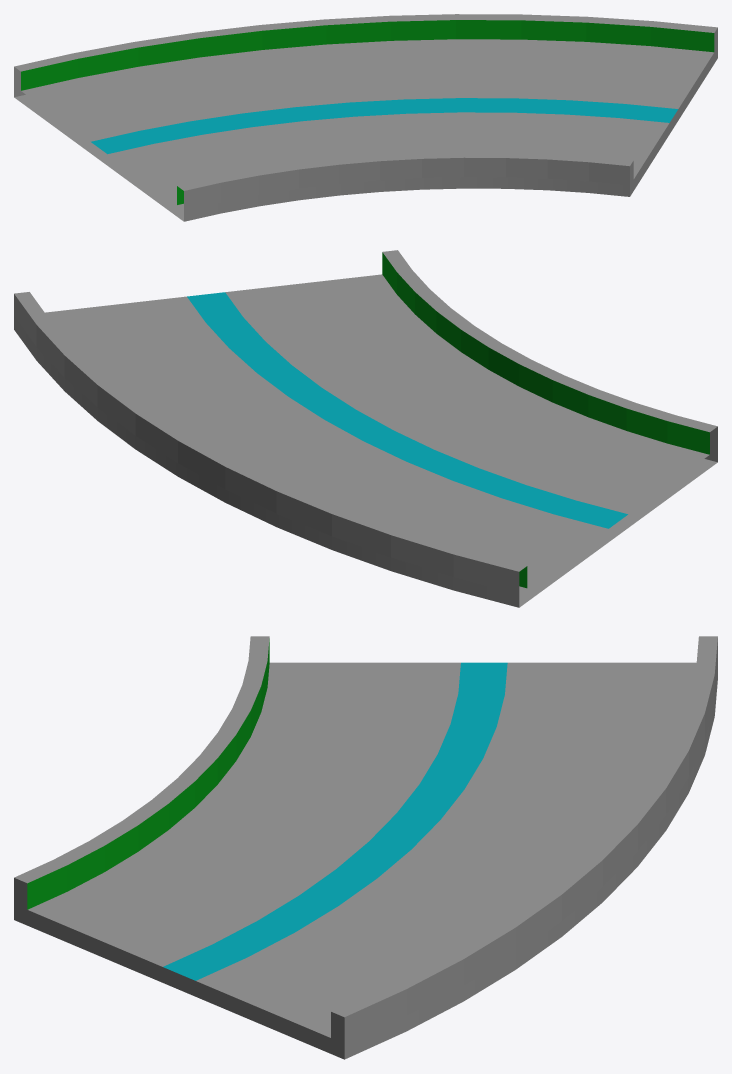
The model's file is mesh_road_curve_45.FBX.
3 views of the same model, one above another, from view 1: azimuth 30°, elevation 25°; view 2: azimuth 150°, elevation 25°; view 3: azimuth 270°, elevation 25° (orthographic). The views are drawn at different scales.
Visible parts, largest first — view 1: Box001; view 2: Box001; view 3: Box001.
Boxes of the visible parts, left/top/right/bottom form: Box001: left=14, top=14, right=717, bottom=221; Box001: left=14, top=250, right=717, bottom=607; Box001: left=14, top=636, right=717, bottom=1059.
Size of the model in its own units: 77.16 by 4 by 60.25.
